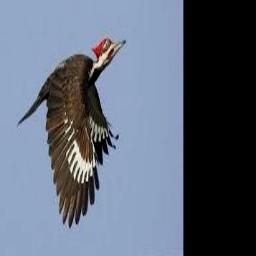Woodpecker: (17, 37, 125, 228)
